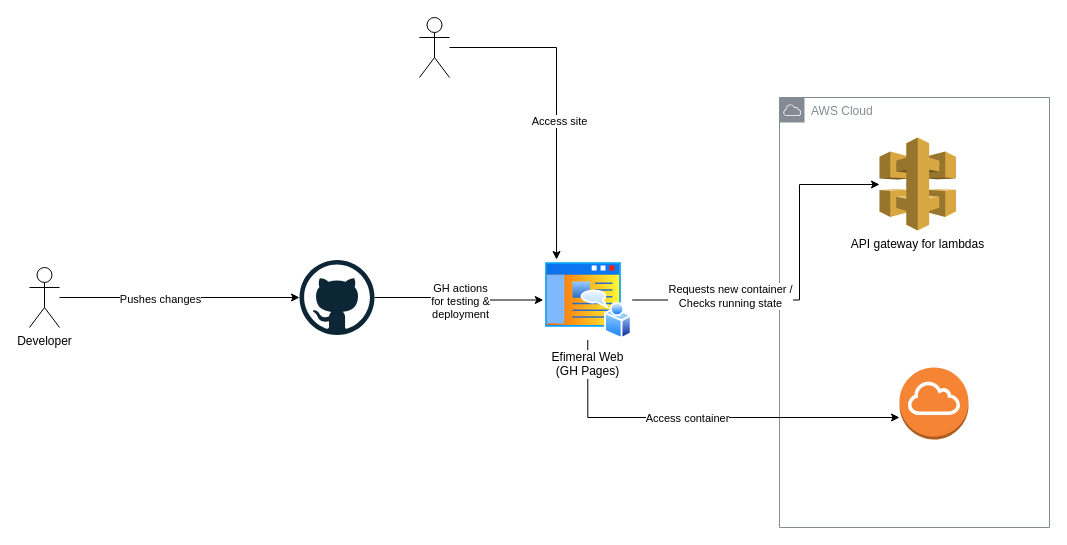
This 1067x545 diagram has some shape labels left out. The shapes that lost their labels are listed below. From the top down, each one's box as (x1, y1, x2, y2) in pixels, then its label:
(418, 16, 450, 78): User
(898, 366, 968, 440): Internet gateway for containers
